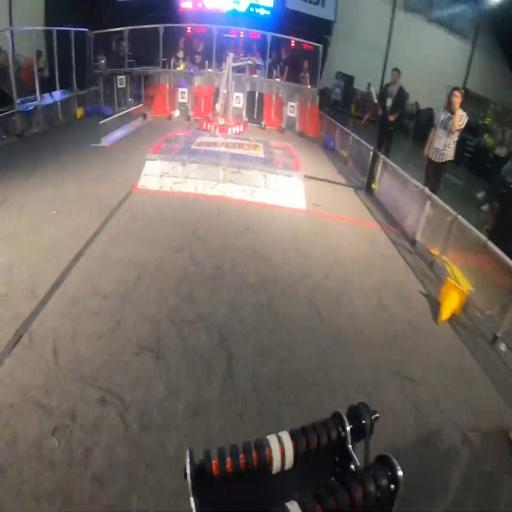robot: (200, 51, 264, 137)
